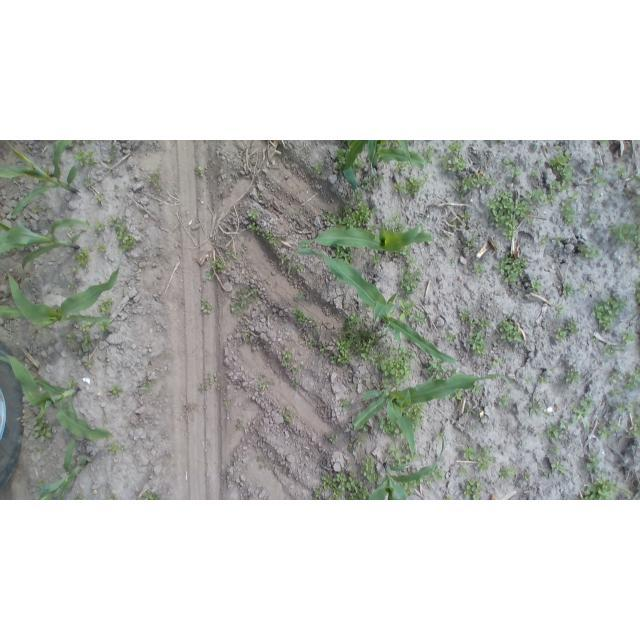Maize: (297, 249, 461, 362), (354, 374, 509, 458), (0, 351, 110, 439), (288, 225, 433, 274), (0, 268, 120, 327), (1, 140, 80, 216), (369, 437, 446, 500), (0, 219, 92, 269), (342, 140, 427, 192), (38, 439, 88, 500)
Weeds: (488, 191, 529, 225), (547, 150, 575, 190), (595, 297, 626, 331), (611, 222, 640, 258), (382, 356, 411, 382), (443, 142, 468, 172), (584, 479, 615, 500), (115, 225, 135, 252), (499, 321, 522, 343), (461, 172, 489, 190), (360, 458, 378, 484), (357, 203, 375, 228), (528, 188, 553, 205), (33, 423, 53, 442), (402, 271, 418, 293), (465, 481, 483, 500), (561, 200, 575, 224), (476, 451, 493, 470), (406, 178, 423, 197), (592, 167, 608, 187), (468, 334, 484, 354), (627, 372, 639, 393), (579, 245, 597, 258), (400, 301, 412, 320), (355, 485, 370, 500), (77, 250, 91, 266), (430, 360, 444, 376), (495, 260, 511, 274), (581, 397, 596, 411), (513, 258, 525, 275), (547, 423, 561, 437), (567, 369, 580, 384), (237, 292, 249, 308), (473, 319, 492, 329), (99, 300, 116, 311), (76, 151, 88, 166), (586, 212, 599, 225), (504, 270, 518, 282), (343, 216, 357, 228), (416, 311, 428, 325), (573, 407, 585, 421), (568, 319, 579, 334), (106, 441, 122, 451), (463, 447, 475, 460), (549, 182, 561, 195), (529, 402, 540, 416), (619, 402, 638, 410), (349, 313, 361, 325), (201, 301, 213, 313), (338, 352, 350, 364), (389, 444, 400, 457), (348, 477, 359, 490), (563, 283, 574, 296), (380, 419, 390, 433), (332, 482, 349, 490), (326, 213, 341, 222), (456, 466, 469, 476), (284, 406, 292, 422), (88, 150, 97, 164), (610, 369, 618, 384), (629, 418, 639, 430), (474, 264, 486, 274), (540, 234, 550, 246), (143, 490, 158, 498), (609, 420, 619, 432), (623, 331, 635, 341), (397, 349, 409, 359), (337, 473, 348, 483), (371, 254, 381, 265), (95, 223, 105, 234), (598, 425, 609, 435), (445, 333, 455, 344), (459, 310, 470, 320), (552, 460, 562, 471), (361, 347, 371, 358), (529, 279, 541, 288), (321, 475, 331, 485), (83, 334, 93, 344), (503, 229, 513, 239), (587, 457, 597, 467), (413, 404, 424, 413), (282, 351, 293, 360), (557, 328, 566, 339), (266, 232, 274, 244), (425, 146, 433, 158), (505, 252, 513, 264), (80, 325, 93, 332), (499, 469, 509, 478), (538, 375, 548, 384), (394, 183, 403, 193), (345, 206, 355, 215), (336, 341, 345, 351), (314, 489, 322, 500), (110, 385, 121, 393), (66, 333, 74, 344), (340, 251, 352, 258), (215, 259, 223, 269), (395, 219, 403, 229), (493, 358, 503, 366), (466, 239, 475, 247), (98, 244, 106, 253), (606, 345, 615, 353), (513, 165, 520, 175), (436, 471, 446, 478), (637, 280, 640, 303), (554, 305, 562, 313), (205, 376, 213, 384), (236, 423, 244, 431), (315, 166, 323, 174), (249, 222, 257, 230), (500, 397, 507, 406), (298, 314, 305, 323), (401, 249, 411, 255), (465, 211, 471, 221), (281, 361, 291, 367), (610, 391, 618, 398), (294, 263, 302, 270), (197, 166, 204, 174), (248, 211, 256, 218), (456, 392, 463, 400), (390, 425, 396, 434), (205, 271, 211, 279), (329, 435, 335, 443), (339, 157, 345, 165), (86, 360, 94, 366), (341, 400, 347, 407), (251, 289, 257, 296), (305, 317, 311, 324), (594, 338, 599, 346), (142, 384, 150, 389), (523, 473, 529, 479), (259, 383, 265, 389), (232, 307, 237, 314), (294, 368, 299, 374), (294, 310, 299, 314)
